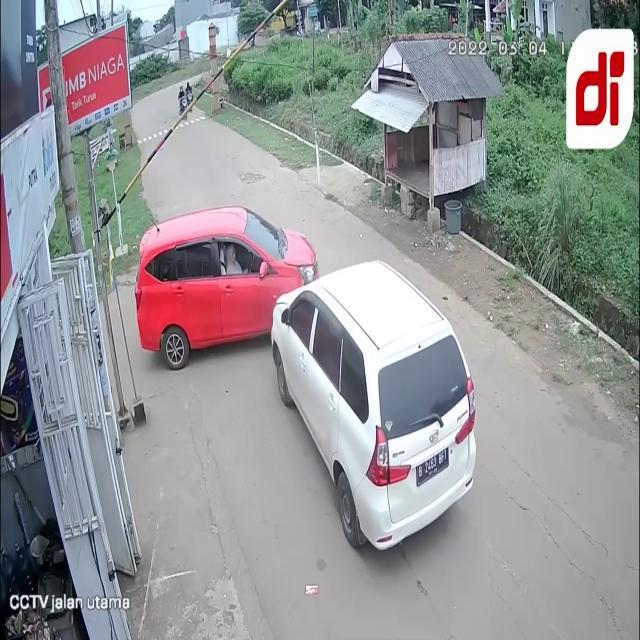multiple_accident: (119, 199, 488, 566)
